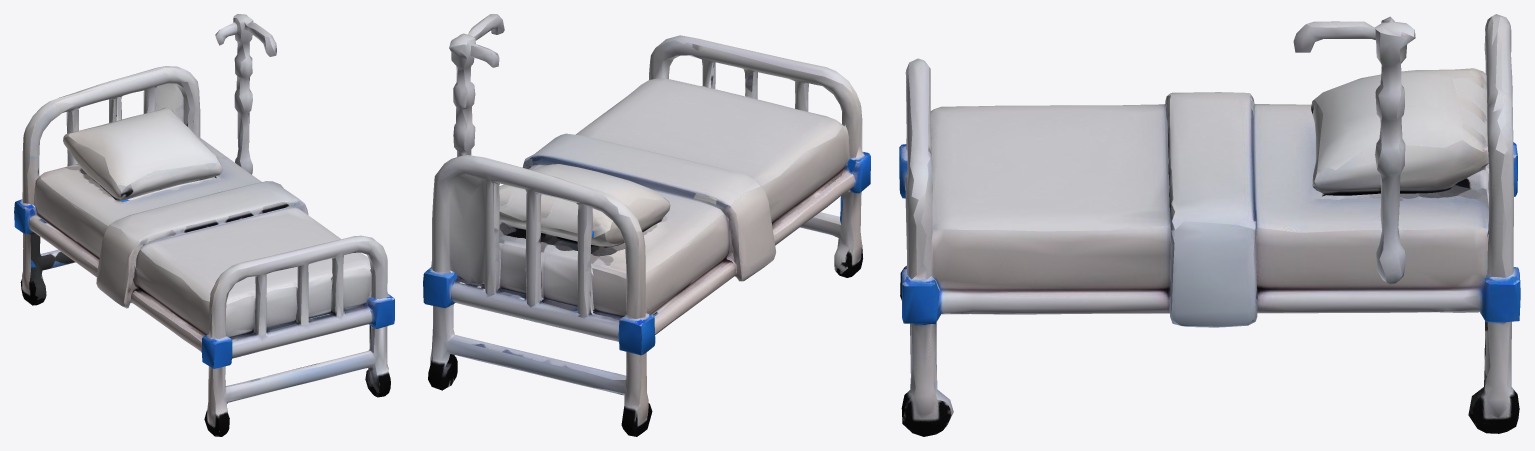
The model's file is clinic_bed.glb.
3 views of the same model, side by side, from view 1: azimuth 30°, elevation 25°; view 2: azimuth 150°, elevation 25°; view 3: azimuth 270°, elevation 25° (orthographic). The views are drawn at different scales.
Parts seen in each view (by area): view 1: clinic_bed_s31; view 2: clinic_bed_s31; view 3: clinic_bed_s31.
Part boxes in pixels (left/top/right/bottom): clinic_bed_s31: left=14, top=14, right=394, bottom=436; clinic_bed_s31: left=423, top=14, right=870, bottom=436; clinic_bed_s31: left=899, top=14, right=1520, bottom=436.
Bounding box in the file's own units: 0.5843 × 0.7508 × 1.
Materials: 1 (1 with a texture image).
